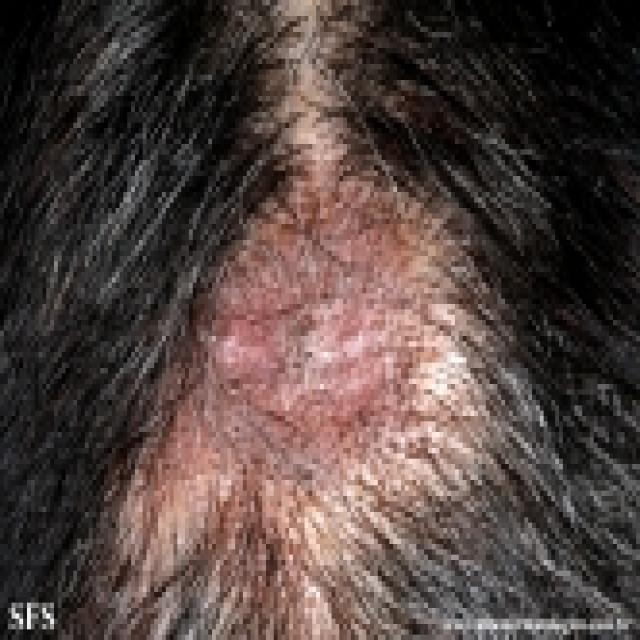lupus: (151, 172, 451, 464)
